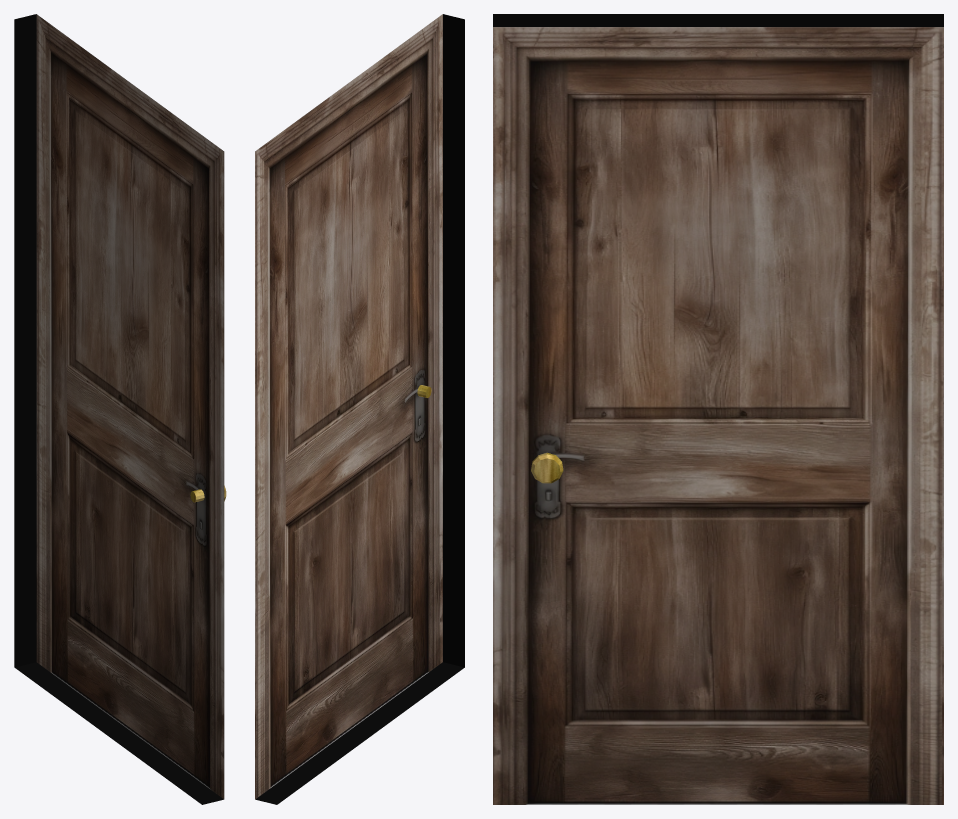
Rendered from portateste2.fbx.
The picture shows the model from 3 angles, left to right: view 1: azimuth 30°, elevation 25°; view 2: azimuth 150°, elevation 25°; view 3: azimuth 270°, elevation 25°; orthographic projection. The views are drawn at different scales.
Visible parts, largest first — view 1: Cube.001, Cube; view 2: Cube.001, Cube; view 3: Cube.001, Cube, Cylinder.
Part boxes in pixels (left/top/right/bottom): Cube.001: left=36, top=14, right=224, bottom=799; Cube: left=14, top=14, right=223, bottom=804; Cube.001: left=255, top=14, right=442, bottom=799; Cube: left=255, top=14, right=464, bottom=804; Cube.001: left=493, top=27, right=943, bottom=804; Cube: left=493, top=14, right=943, bottom=26; Cylinder: left=531, top=452, right=563, bottom=483.
Size of the model in its own units: 56.76 by 850 by 446.
Materials: 3 (2 with a texture image).
